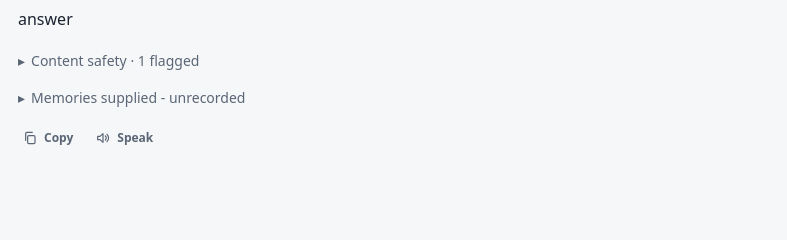
MessageList content-safety panel › shows the normalized severity level beside the provider's own wording
Click the heading "Content safety · 1 flagged".
click(115, 61)  # box [31,51,199,70]
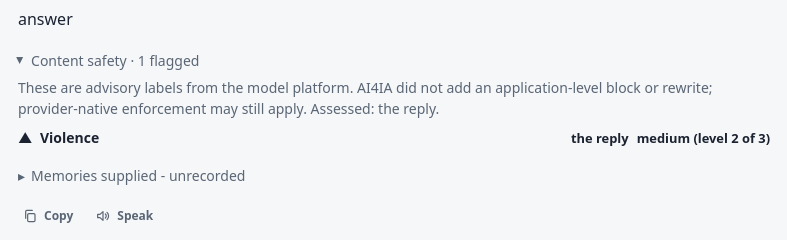
Expected: the text "medium (level 2 of 3)" is shown, [637,129,770,149]
